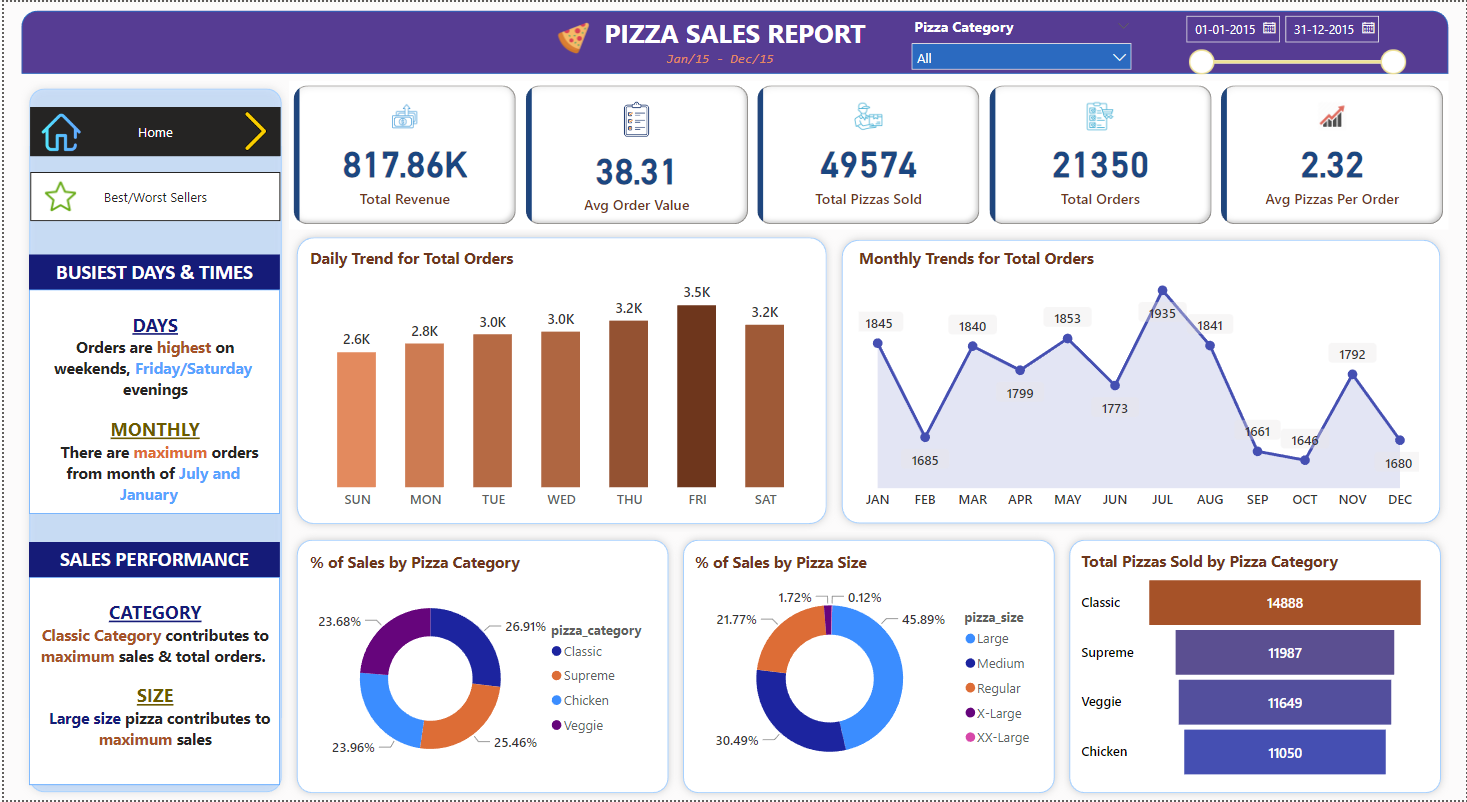

The dashboard page shown, as its layout file describes it:
{"tool":"powerbi","page":{"name":"Home","canvas":[1500,820],"ordinal":0},"visuals":[{"type":"shape","box":[17.5,81.2,275,738.8],"z":0},{"type":"cardVisual","fields":{"Data":["pizza_sales.Total Revenue","pizza_sales.Avg Order Value","pizza_sales.Total Pizzas Sold","pizza_sales.Total Orders","pizza_sales.Avg Pizzas Per Order"]},"box":[292.5,81.2,1190,152.5],"z":1000},{"type":"shape","box":[17.5,8.8,1465,65],"z":2000},{"type":"textbox","box":[593.8,8.8,312.5,53.8],"z":3000},{"type":"textbox","box":[675,43.8,150,37.5],"z":4000},{"type":"image","box":[563.8,10,42.5,53.8],"z":5000},{"type":"shape","box":[292.5,233.8,560,310],"z":6000},{"type":"columnChart","title":"Daily Trend for Total Orders","fields":{"Category":["pizza_sales.Order Day"],"Y":["pizza_sales.Total Orders"]},"box":[308.8,251.2,526.2,278.8],"z":7000},{"type":"shape","box":[852.5,236.2,630,307.5],"z":8000},{"type":"areaChart","title":"Monthly Trends for Total Orders","fields":{"Category":["pizza_sales.Order Month"],"Y":["pizza_sales.Total Orders"]},"box":[872.5,251.2,585,278.8],"z":9000},{"type":"shape","box":[292.5,543.8,397.5,276.2],"z":10000},{"type":"shape","box":[688.8,543.8,397.5,276.2],"z":11000},{"type":"shape","box":[1085,543.8,397.5,276.2],"z":12000},{"type":"donutChart","title":"% of Sales by Pizza Category","fields":{"Category":["pizza_sales.pizza_category"],"Y":["pizza_sales.Total Revenue"]},"box":[308.8,563.8,366.2,241.2],"z":13000},{"type":"donutChart","title":"% of Sales by Pizza Size","fields":{"Y":["pizza_sales.Total Revenue"],"Category":["pizza_sales.pizza_size"]},"box":[705,563.8,366.2,241.2],"z":14000},{"type":"funnel","title":"Total Pizzas Sold by Pizza Category","fields":{"Category":["pizza_sales.pizza_category"],"Y":["pizza_sales.Total Pizzas Sold"]},"box":[1101.2,562.5,363.8,241.2],"z":15000},{"type":"textbox","box":[26.2,258.8,257.5,36.2],"z":16000},{"type":"textbox","box":[26.2,295,257.5,230],"z":17000},{"type":"textbox","box":[26.2,590,257.5,213.8],"z":18000},{"type":"textbox","box":[26.2,553.8,257.5,36.2],"z":19000},{"type":"slicer","fields":{"Values":["pizza_sales.pizza_category"]},"box":[921.2,10,246.2,63.8],"z":20000},{"type":"slicer","fields":{"Values":["pizza_sales.order_date"]},"box":[1201.2,3.8,246.2,80],"z":21000},{"type":"pageNavigator","box":[26.5,107.2,257.6,50.1],"z":21001},{"type":"pageNavigator","box":[26.5,174,257.6,50.1],"z":21002},{"type":"image","box":[222.8,107.2,69.6,50.1],"z":21003},{"type":"image","box":[18.1,108.6,80.7,50.1],"z":21004},{"type":"image","box":[37.6,176.8,41.8,44.6],"z":21005}]}

Visuals, with their boxes in screenshot pixels (x1, y1, x2, y2), scaled from the page's 1500x820 canvas onto the 1467x802 screenshot:
shape: l=17, t=79, r=286, b=801
cardVisual - pizza_sales.Total Revenue x pizza_sales.Avg Order Value: l=286, t=79, r=1450, b=229
shape: l=17, t=9, r=1450, b=72
textbox: l=581, t=9, r=886, b=61
textbox: l=660, t=43, r=807, b=80
image: l=551, t=10, r=593, b=62
shape: l=286, t=229, r=834, b=532
"Daily Trend for Total Orders" columnChart: l=302, t=246, r=817, b=518
shape: l=834, t=231, r=1450, b=532
"Monthly Trends for Total Orders" areaChart: l=853, t=246, r=1425, b=518
shape: l=286, t=532, r=675, b=801
shape: l=674, t=532, r=1062, b=801
shape: l=1061, t=532, r=1450, b=801
"% of Sales by Pizza Category" donutChart: l=302, t=551, r=660, b=787
"% of Sales by Pizza Size" donutChart: l=689, t=551, r=1048, b=787
"Total Pizzas Sold by Pizza Category" funnel: l=1077, t=550, r=1433, b=786
textbox: l=26, t=253, r=277, b=289
textbox: l=26, t=289, r=277, b=513
textbox: l=26, t=577, r=277, b=786
textbox: l=26, t=542, r=277, b=577
slicer - pizza_sales.pizza_category: l=901, t=10, r=1142, b=72
slicer - pizza_sales.order_date: l=1175, t=4, r=1416, b=82
pageNavigator: l=26, t=105, r=278, b=154
pageNavigator: l=26, t=170, r=278, b=219
image: l=218, t=105, r=286, b=154
image: l=18, t=106, r=97, b=155
image: l=37, t=173, r=78, b=217
